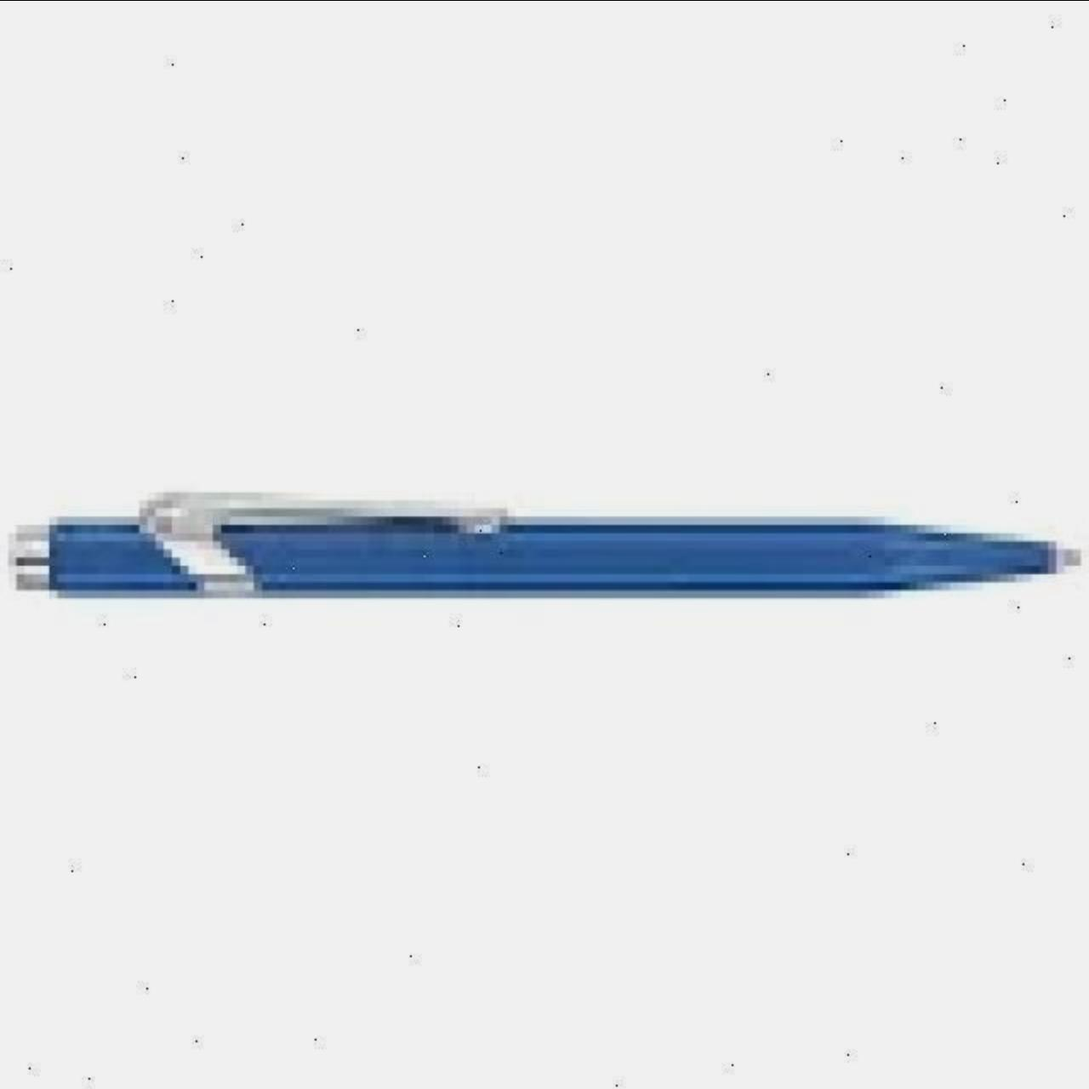pen: (0, 483, 1080, 599)
